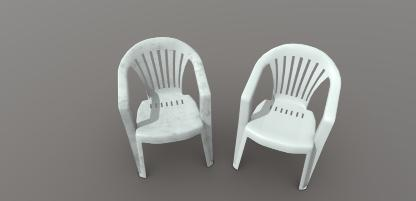chair: (230, 42, 345, 194), (112, 33, 220, 183)
